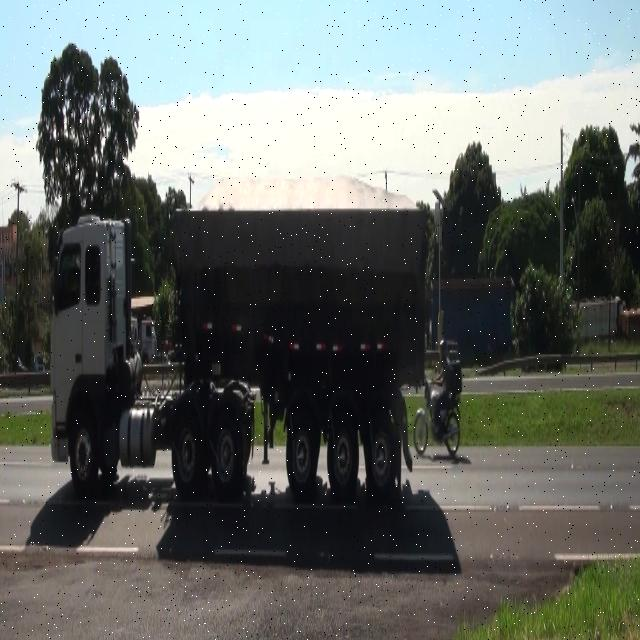-axle: (326, 405, 360, 504), (171, 409, 206, 497), (284, 409, 318, 494), (68, 412, 100, 502), (366, 414, 396, 502), (212, 412, 242, 494)
